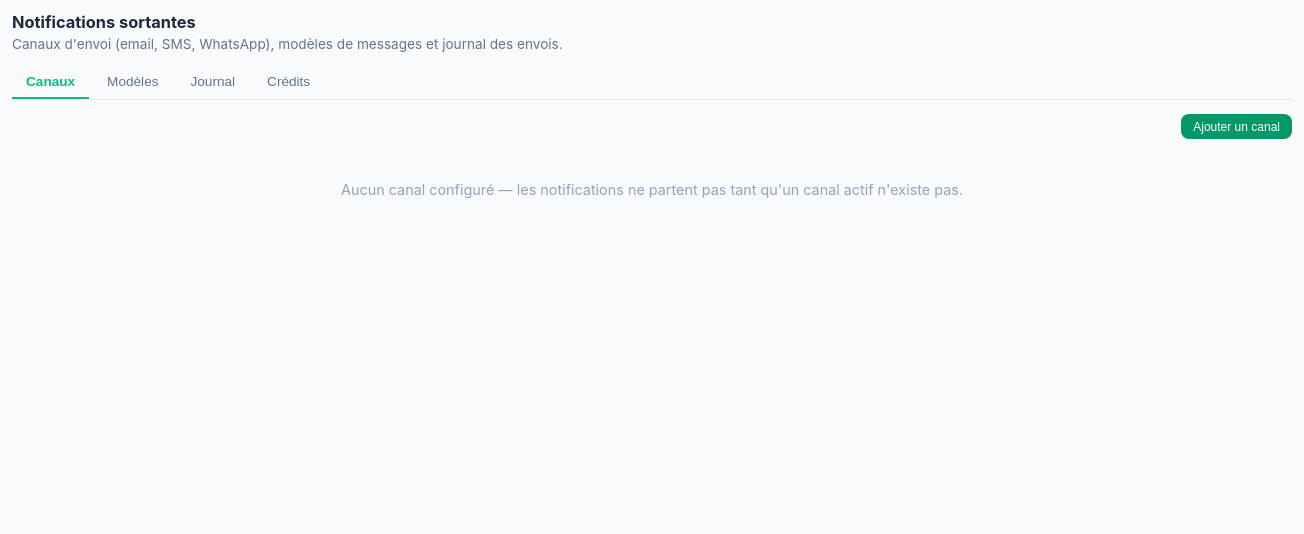
Test: NotificationSettingsPanel — credits (RC-7E) › lists pending mobile money orders with their status
Click the button with class "ntf-tab" showing "Crédits" at x=289, y=82, box [253,66,324,99]
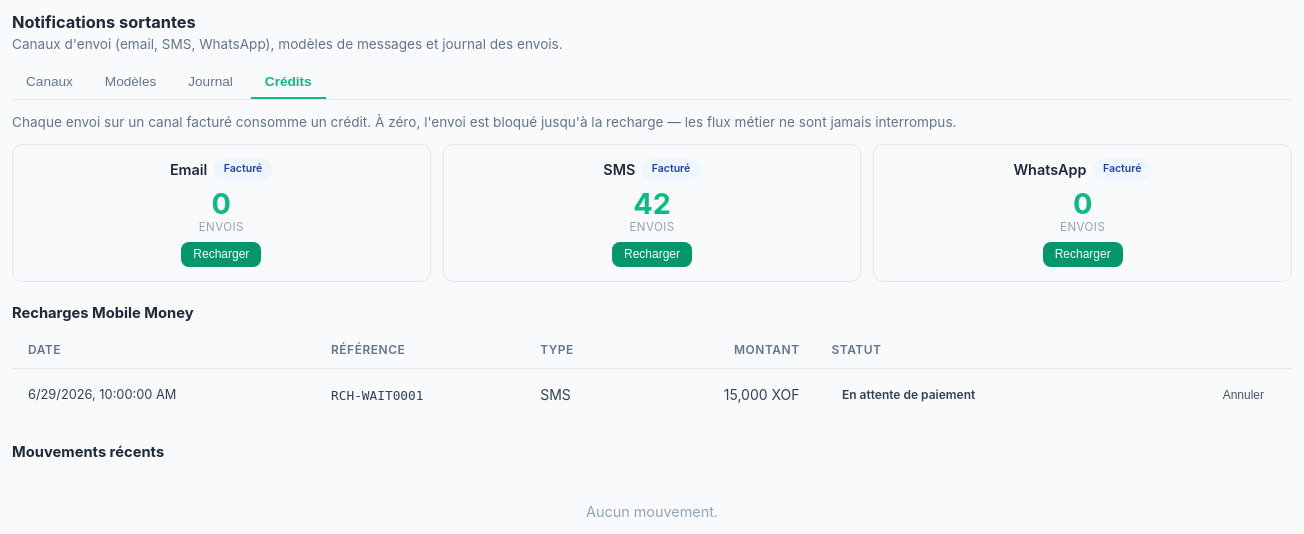
Expected: the text "RCH-WAIT0001" is shown, [331,388,424,404]
Expected: the text "En attente de paiement" is shown, [832,383,986,407]
